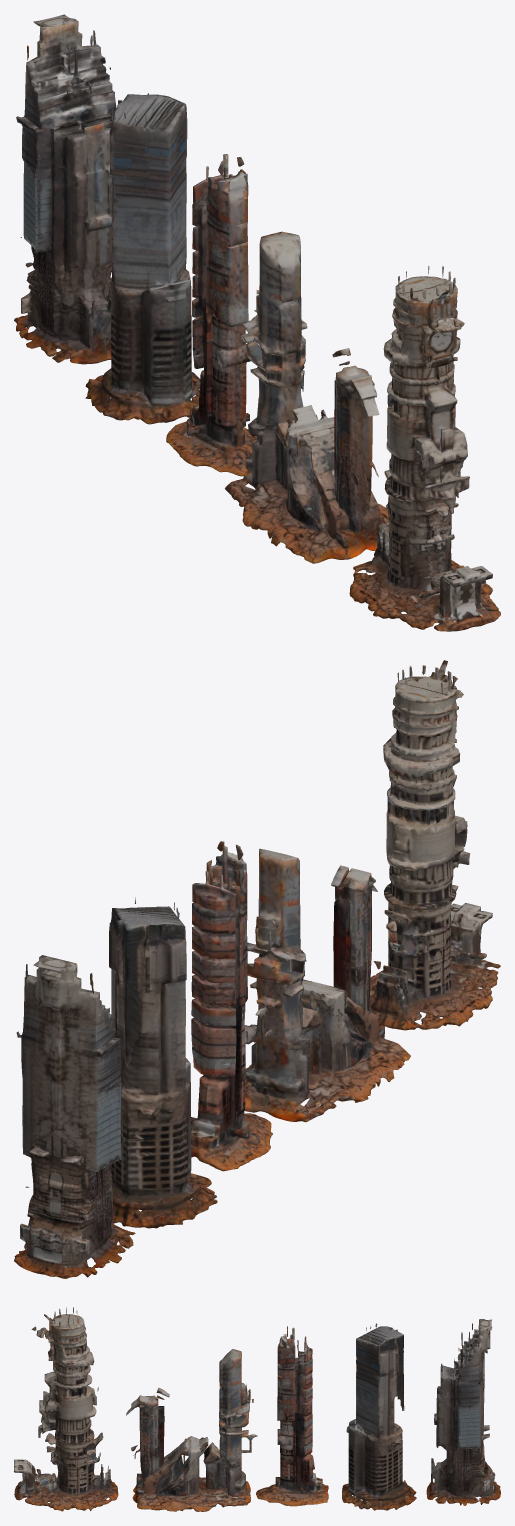
File: Hnoid_Ruinedcity.fbx
3 renders of one model, top to bottom at view 1: azimuth 30°, elevation 25°; view 2: azimuth 150°, elevation 25°; view 3: azimuth 270°, elevation 25°, orthographic. The views are drawn at different scales.
Parts seen in each view (by area): view 1: tripo_node_27466fe9; view 2: tripo_node_27466fe9; view 3: tripo_node_27466fe9.
Part boxes in pixels (box(x1,y1,x2,y2)): tripo_node_27466fe9: box(14, 14, 500, 631); tripo_node_27466fe9: box(14, 660, 500, 1278); tripo_node_27466fe9: box(14, 1307, 500, 1511).
Bounding box in the file's own units: 0.1622 × 0.4168 × 0.9999.
1 material, 1 textured.
